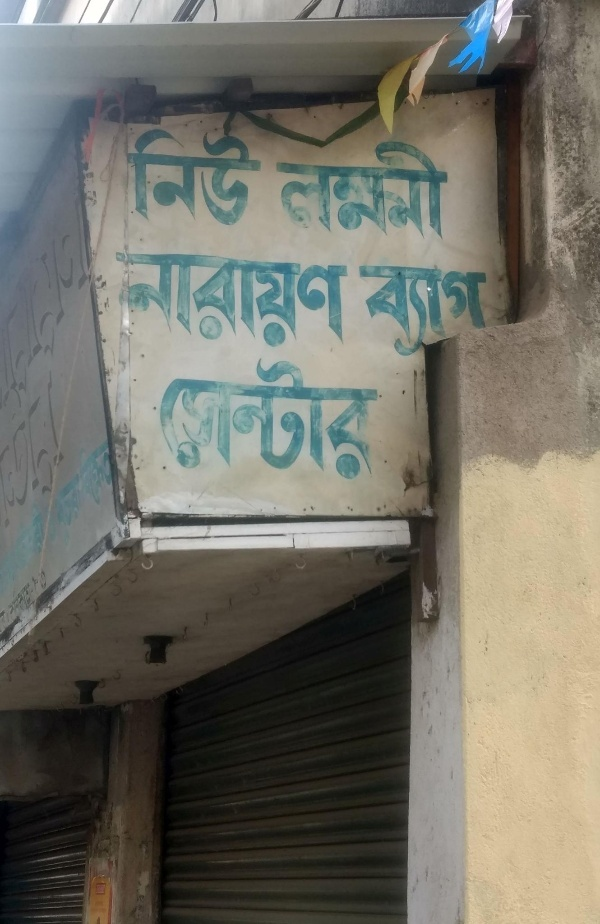text: (161, 357, 176, 490), (177, 357, 192, 490), (193, 357, 208, 490), (209, 357, 224, 490), (225, 357, 240, 490), (241, 357, 256, 490), (257, 357, 272, 490), (273, 357, 288, 490), (289, 357, 304, 490), (305, 357, 320, 490), (321, 357, 336, 490), (337, 357, 352, 490), (353, 357, 368, 490), (369, 357, 382, 490), (273, 138, 288, 243), (289, 138, 304, 243), (305, 138, 320, 243), (321, 138, 336, 243), (337, 138, 352, 243), (353, 138, 368, 243), (369, 138, 384, 243), (385, 138, 400, 243), (401, 138, 416, 243), (417, 138, 432, 243), (433, 138, 448, 243), (145, 125, 160, 229), (161, 125, 176, 229), (177, 125, 192, 229), (193, 125, 208, 229), (209, 125, 224, 229), (225, 125, 240, 229), (241, 125, 256, 229), (113, 247, 128, 350), (129, 247, 144, 350), (145, 247, 160, 350), (161, 247, 176, 350), (177, 247, 192, 350), (193, 247, 208, 350), (209, 247, 224, 350), (225, 247, 240, 350), (241, 247, 256, 350), (257, 247, 272, 350), (273, 247, 288, 350), (289, 247, 304, 350), (305, 247, 320, 350), (321, 247, 336, 350), (337, 247, 352, 350), (130, 125, 144, 229), (369, 264, 384, 356), (385, 264, 400, 356), (401, 264, 416, 356), (417, 264, 432, 356), (433, 264, 448, 356), (449, 264, 464, 356), (465, 264, 480, 356), (481, 264, 494, 356), (353, 247, 364, 350), (257, 125, 265, 229), (359, 264, 368, 356), (266, 138, 272, 243), (449, 138, 453, 243), (157, 357, 160, 490)
